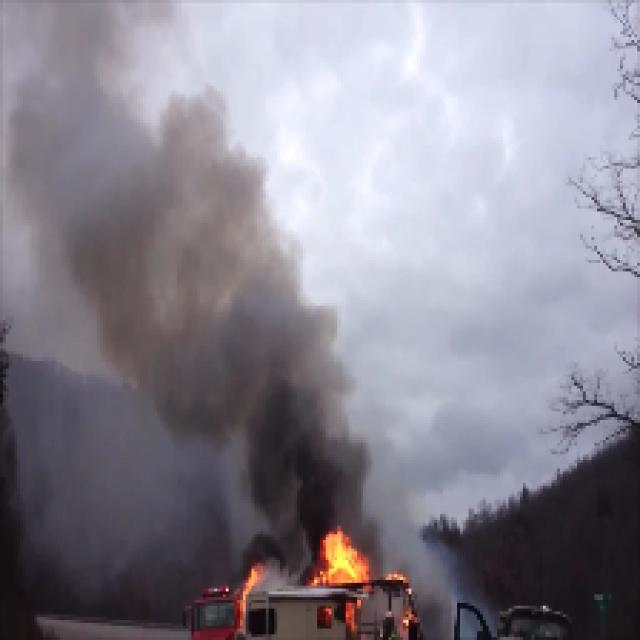smoke: (21, 1, 180, 399), (198, 195, 316, 450)
